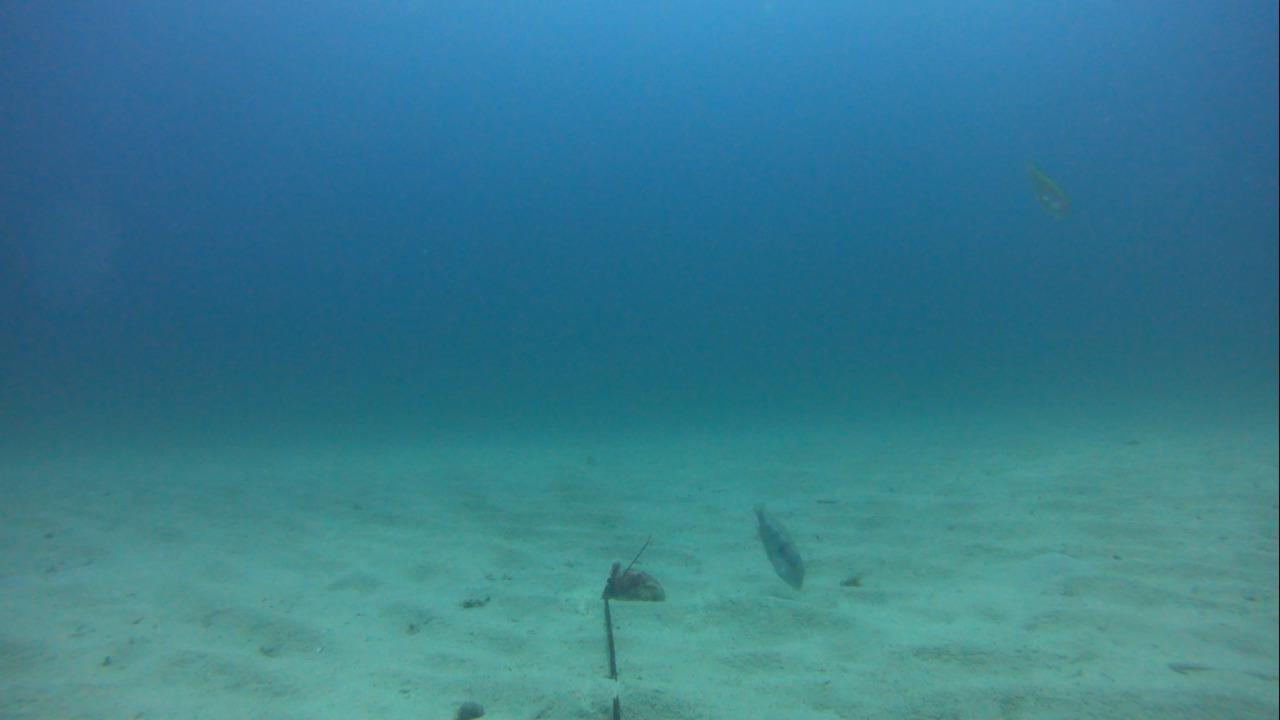raor: (747, 501, 812, 595), (1013, 149, 1076, 223)
